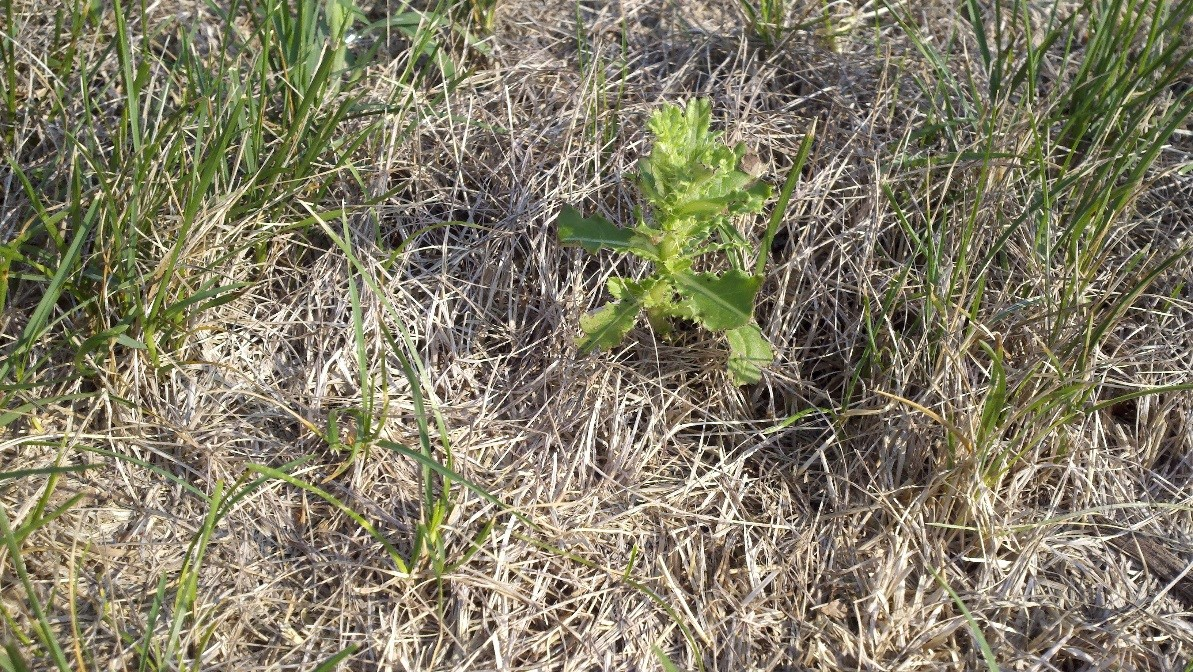crabgrass: (39, 128, 229, 388)
